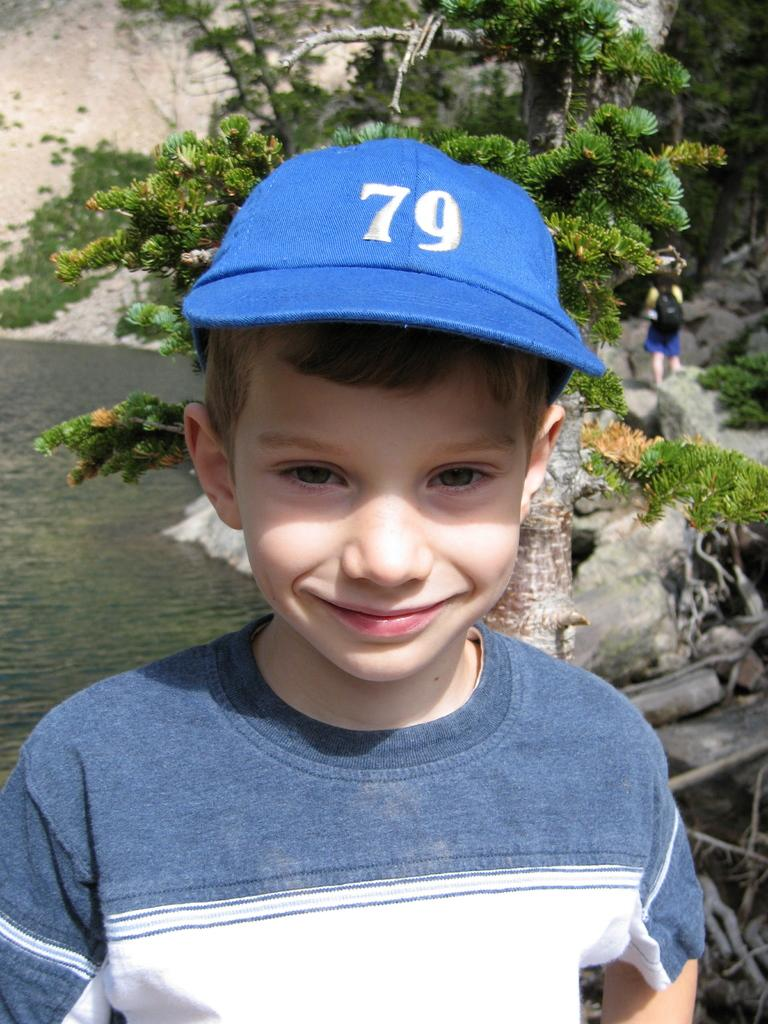Hat: (180, 134, 605, 376)
